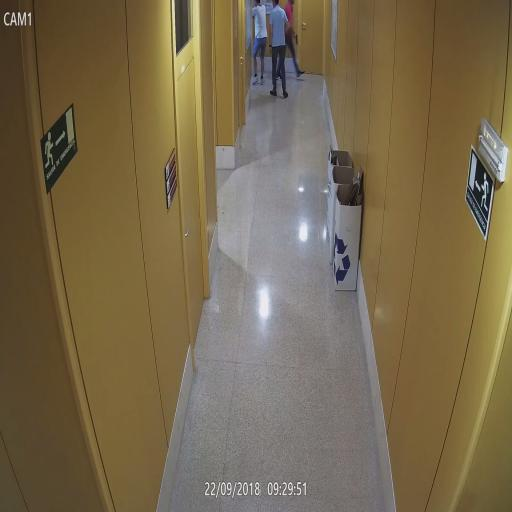Handgun: (291, 32, 299, 44)
